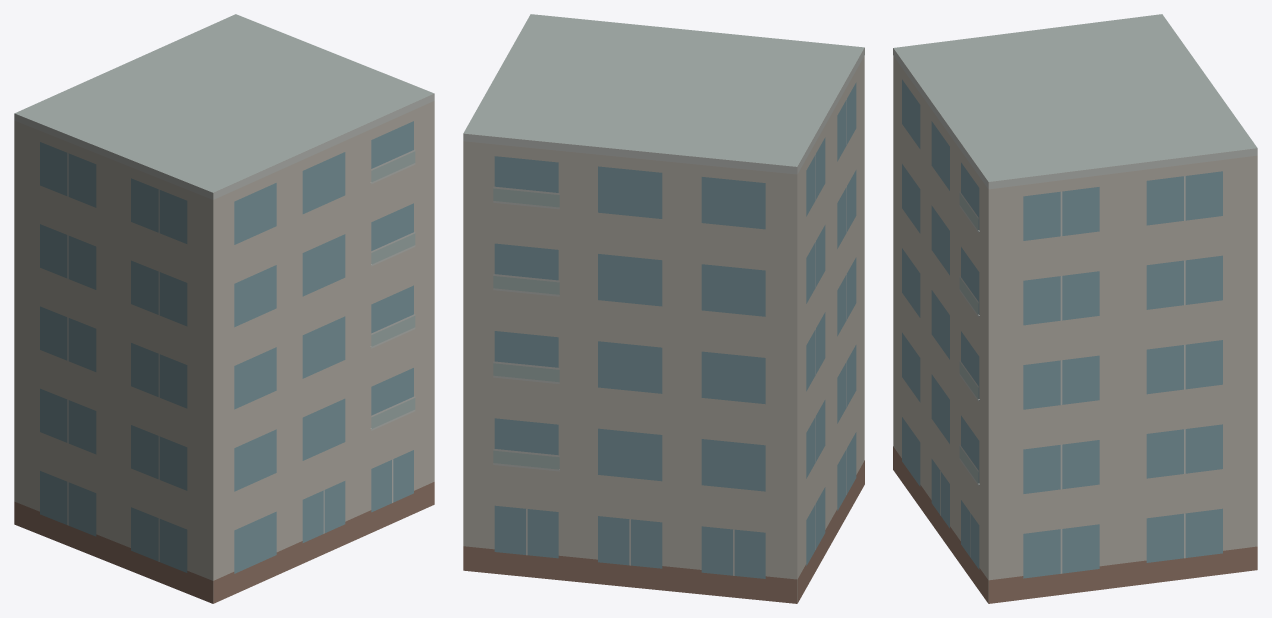
File: survey-upis-32722354.glb
3 views of the same model, side by side, from view 1: azimuth 30°, elevation 25°; view 2: azimuth 150°, elevation 25°; view 3: azimuth 270°, elevation 25° (orthographic). The views are drawn at different scales.
Parts seen in each view (by area): view 1: survey-upis-32722354.tmp; view 2: survey-upis-32722354.tmp; view 3: survey-upis-32722354.tmp.
Boxes of the visible parts, box(x1,y1,x2,y2) form: survey-upis-32722354.tmp: box(14, 14, 434, 603); survey-upis-32722354.tmp: box(463, 14, 864, 603); survey-upis-32722354.tmp: box(893, 14, 1257, 603).
Size of the model in its own units: 11.9 by 13.92 by 10.91.
